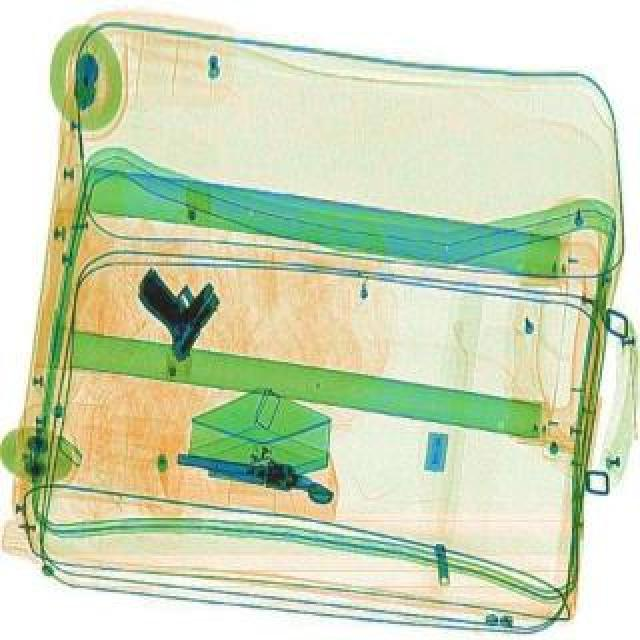gun: (120, 248, 238, 360), (172, 450, 340, 502)
